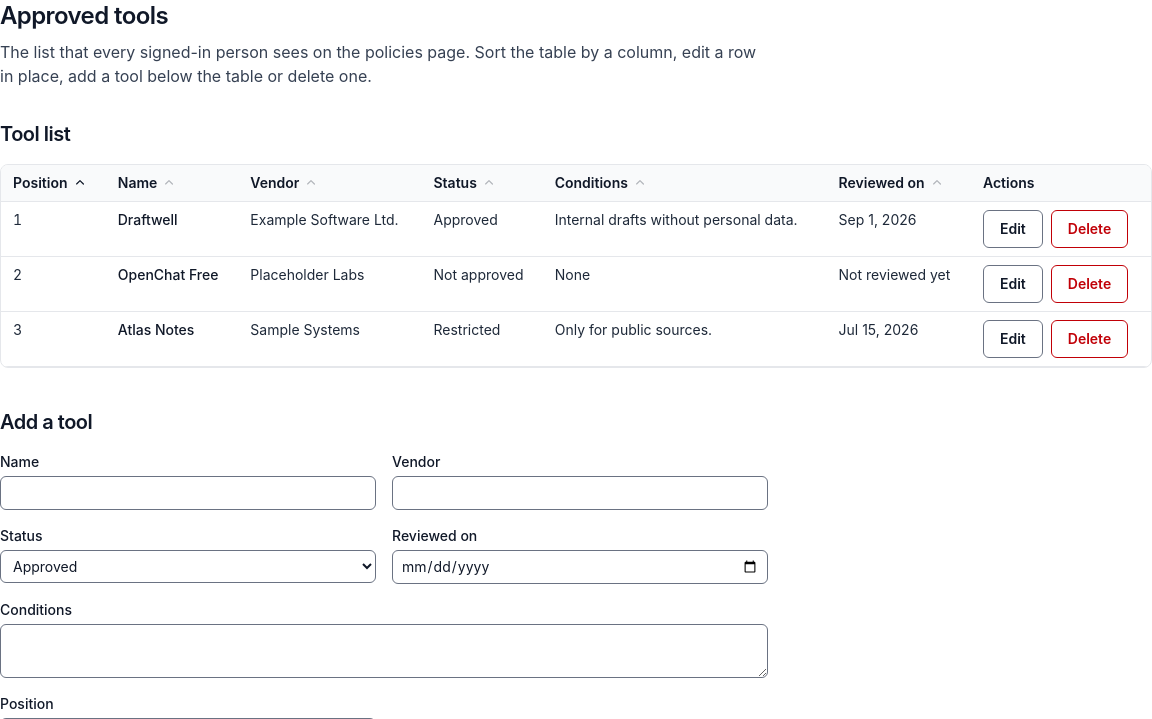
Test case: the approved tools page › deletes a tool after the confirmation
The image size is (1152, 719).
Click the button named "Delete OpenChat Free": (1090, 284) [1051,265,1128,303]
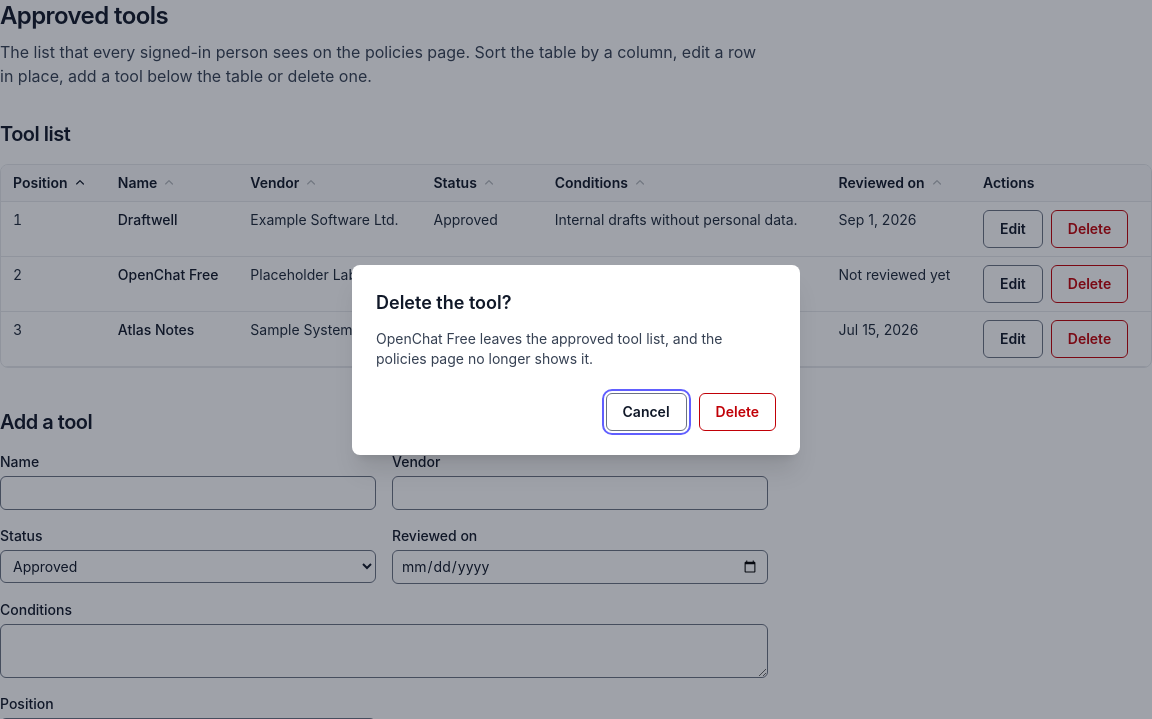
Click the button "Delete": (737, 412) [699,393,776,431]
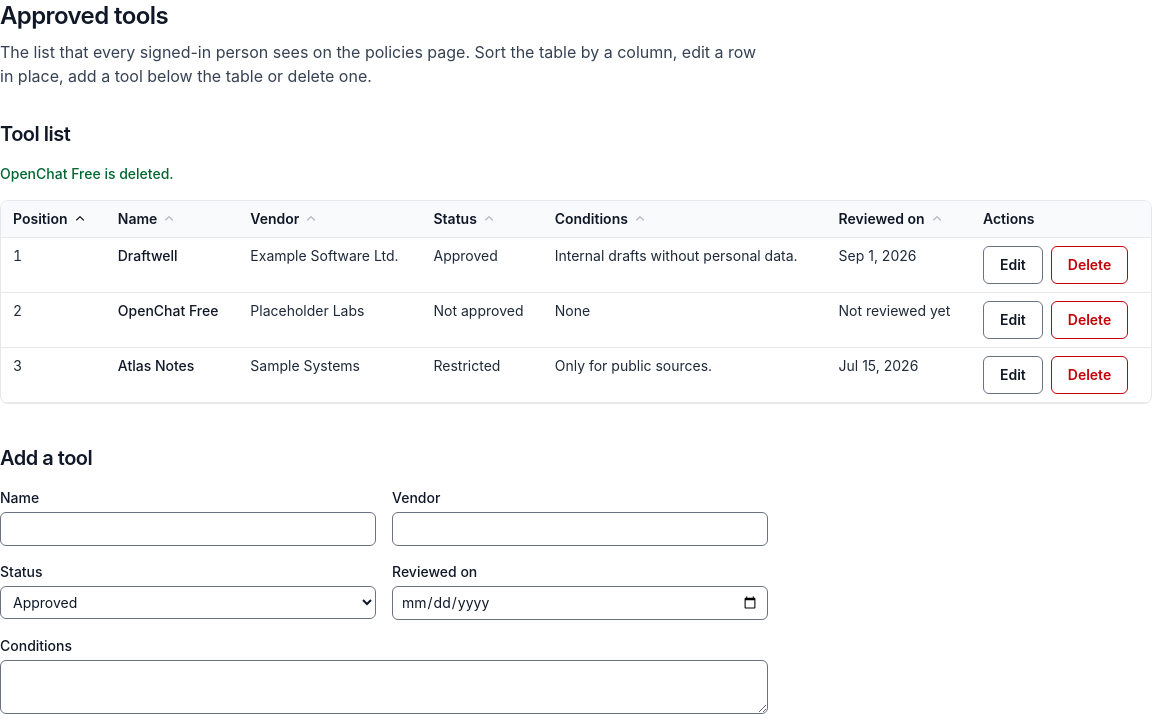
Expected: the text "OpenChat Free is deleted." is shown, [0,165,174,182]
